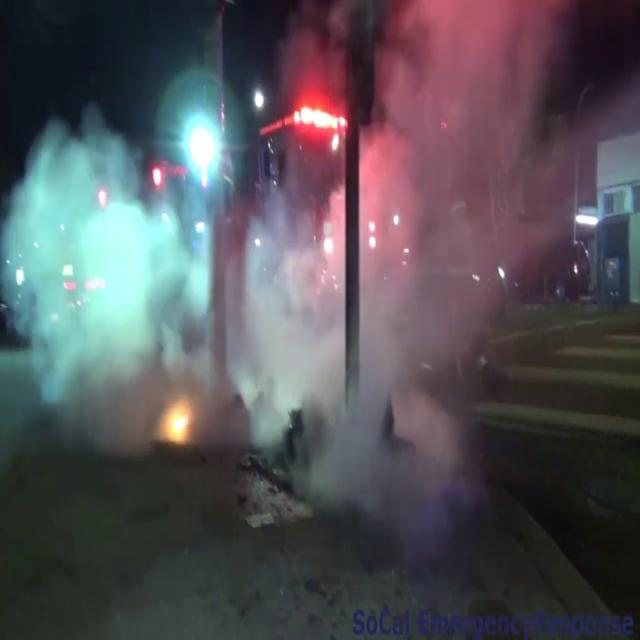Smoke: (245, 1, 588, 442), (2, 99, 190, 412)
